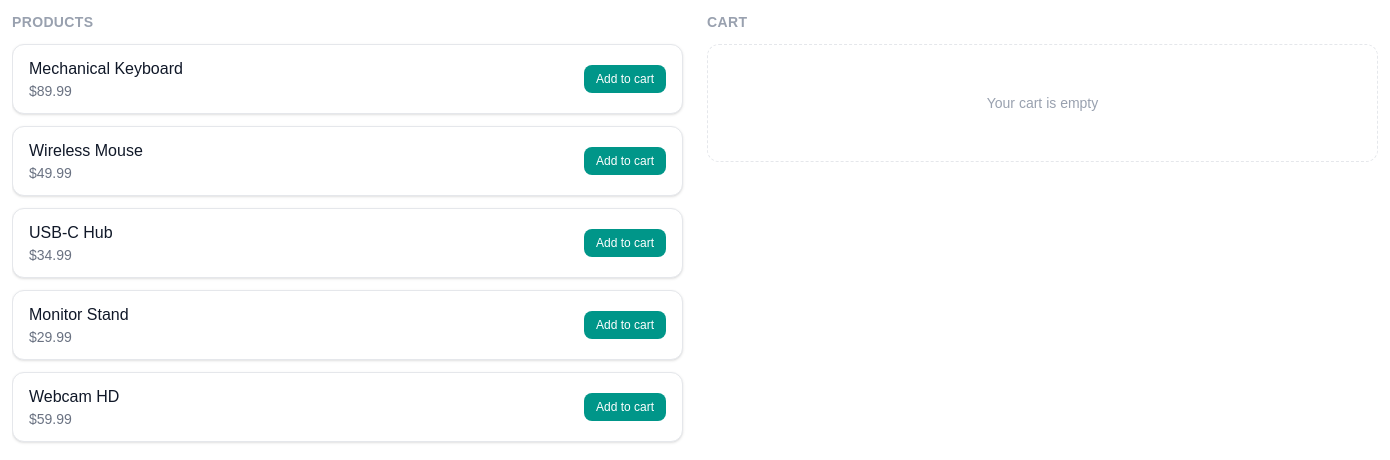
Test: CartDemo (Context) — adding items › shows 'Add more (n)' after the item is in the cart
Click the button "Add to cart" in the row of "Mechanical Keyboard": (625, 79) [584,65,666,93]
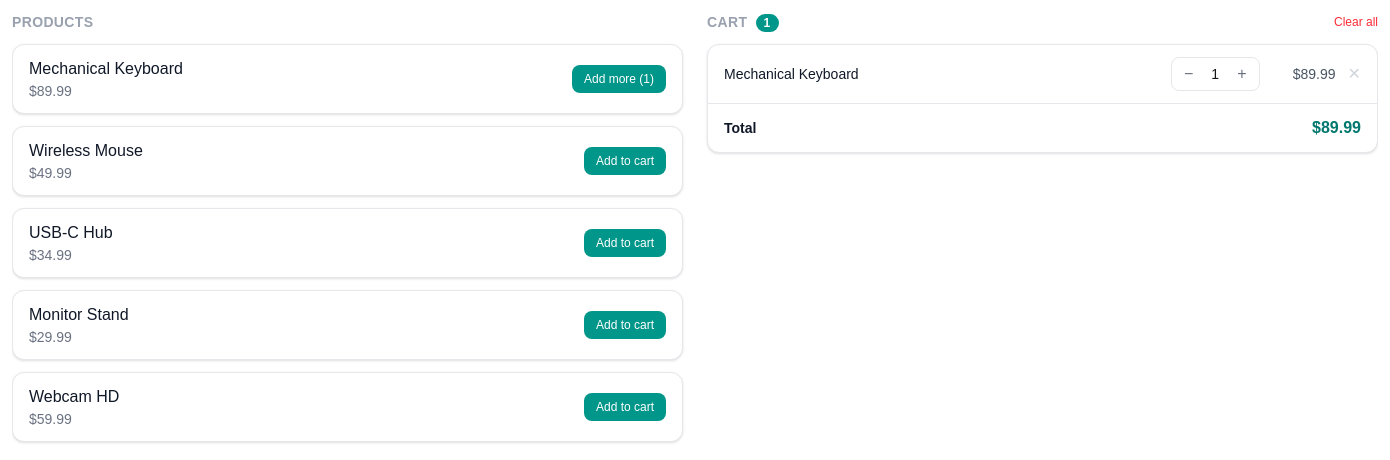
Check: the button "Add more (1)" is shown, box [572,65,666,93]
